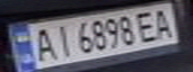6: (72, 18, 93, 54)
8: (118, 12, 139, 47), (90, 17, 109, 52)
9: (103, 16, 124, 50)
A: (27, 25, 57, 62), (148, 6, 178, 39)
E: (133, 8, 163, 43)
I: (48, 21, 75, 57)
